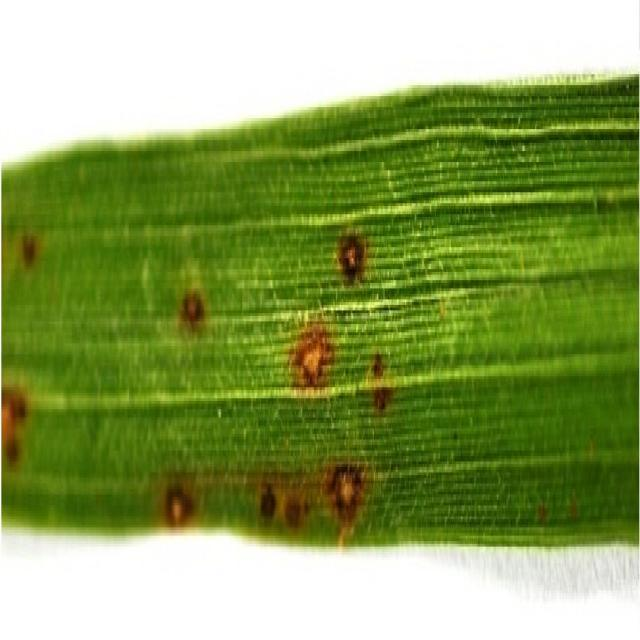Leafsmut: (289, 322, 334, 392), (325, 463, 363, 528), (2, 385, 28, 467), (337, 230, 367, 285), (164, 480, 194, 528), (373, 353, 392, 413), (180, 288, 205, 332), (285, 495, 307, 527), (260, 484, 275, 519), (22, 234, 37, 266)
